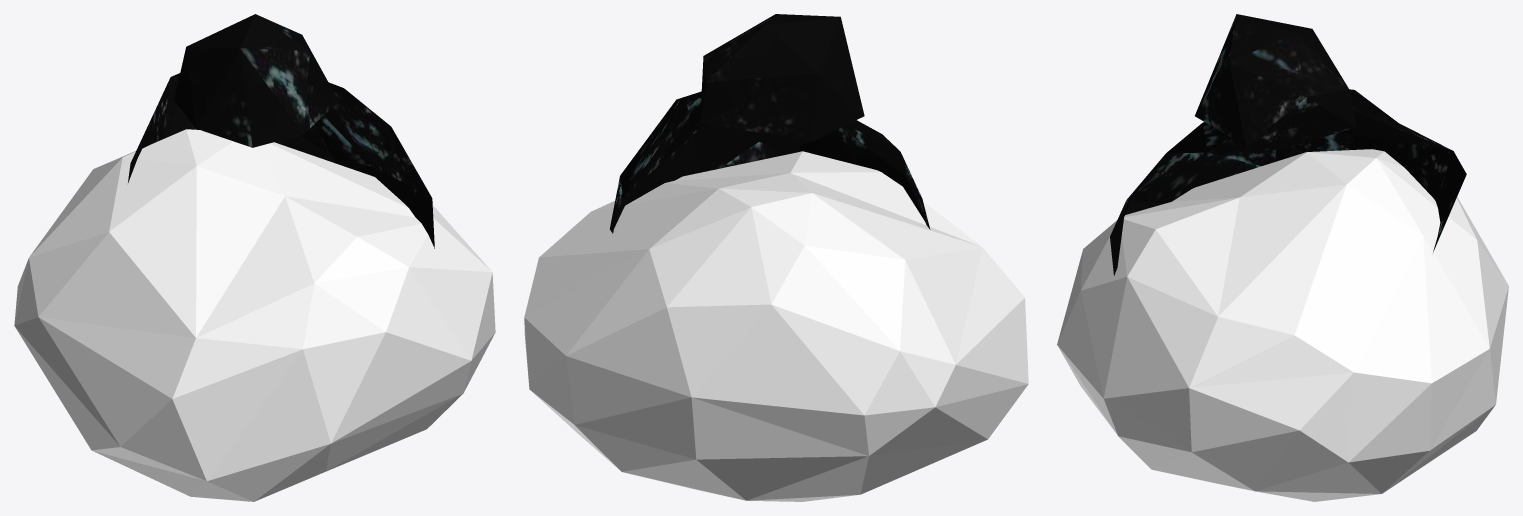
The model's file is Stone.glb.
3 renders of one model, left to right at view 1: azimuth 30°, elevation 25°; view 2: azimuth 150°, elevation 25°; view 3: azimuth 270°, elevation 25°, orthographic. The views are drawn at different scales.
Visible parts, largest first — view 1: Sphere.002; view 2: Sphere.002; view 3: Sphere.002.
Part boxes in pixels (left/top/right/bottom): Sphere.002: left=14, top=14, right=495, bottom=501; Sphere.002: left=524, top=14, right=1028, bottom=501; Sphere.002: left=1057, top=14, right=1508, bottom=501.
Size of the model in its own units: 3.88 by 3.85 by 3.65.
6 materials, 5 textured.
